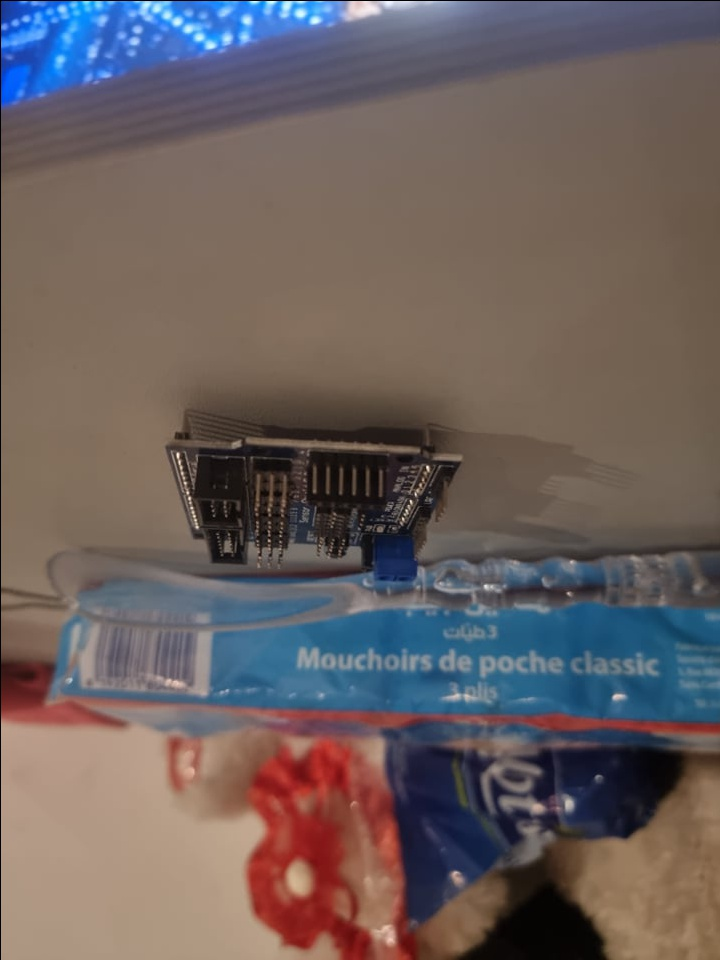5V EXPANSION: (161, 435, 462, 583)
